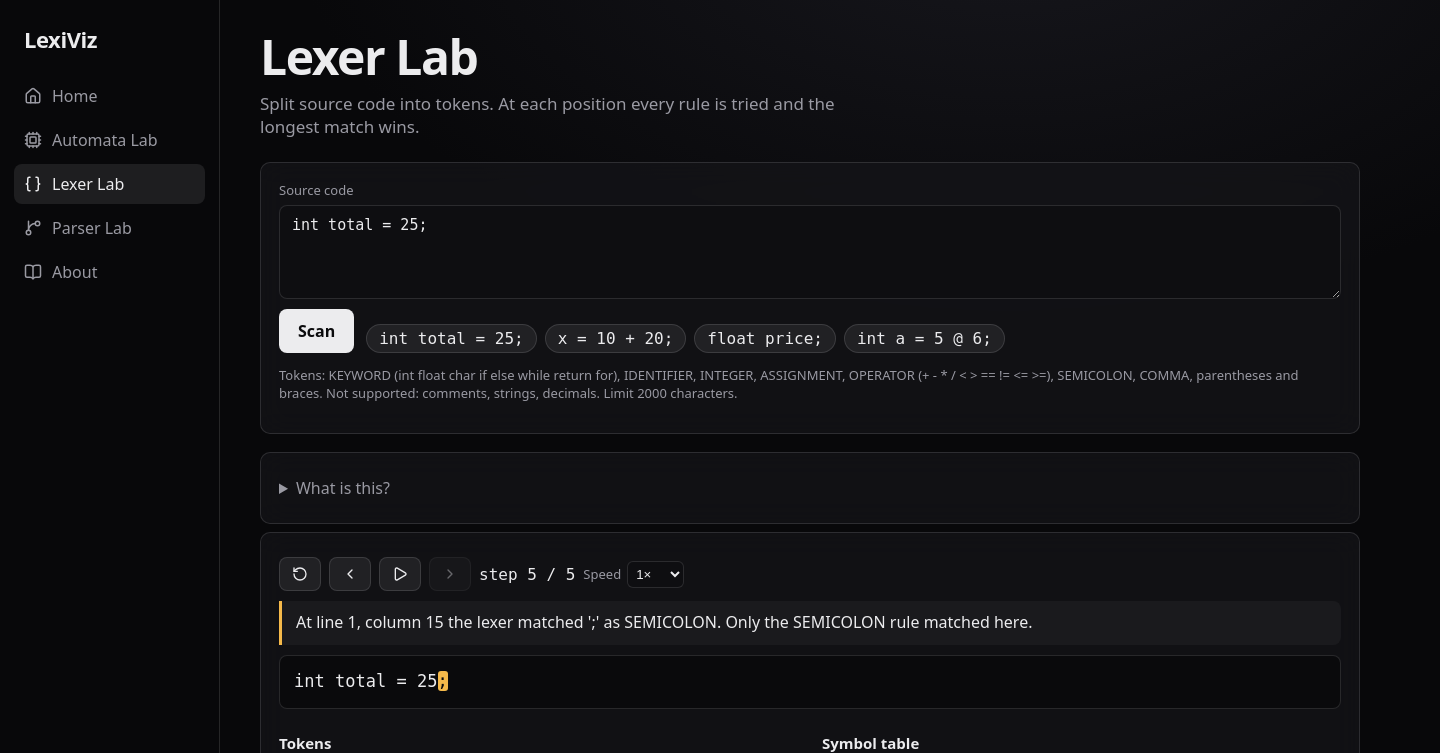
it: Lexer Lab › explains tie-breaking for the first lexeme
The width and height of the screenshot is (1440, 753).
Click the button named "Reset" at coordinates (300, 574), box [279, 557, 321, 591]
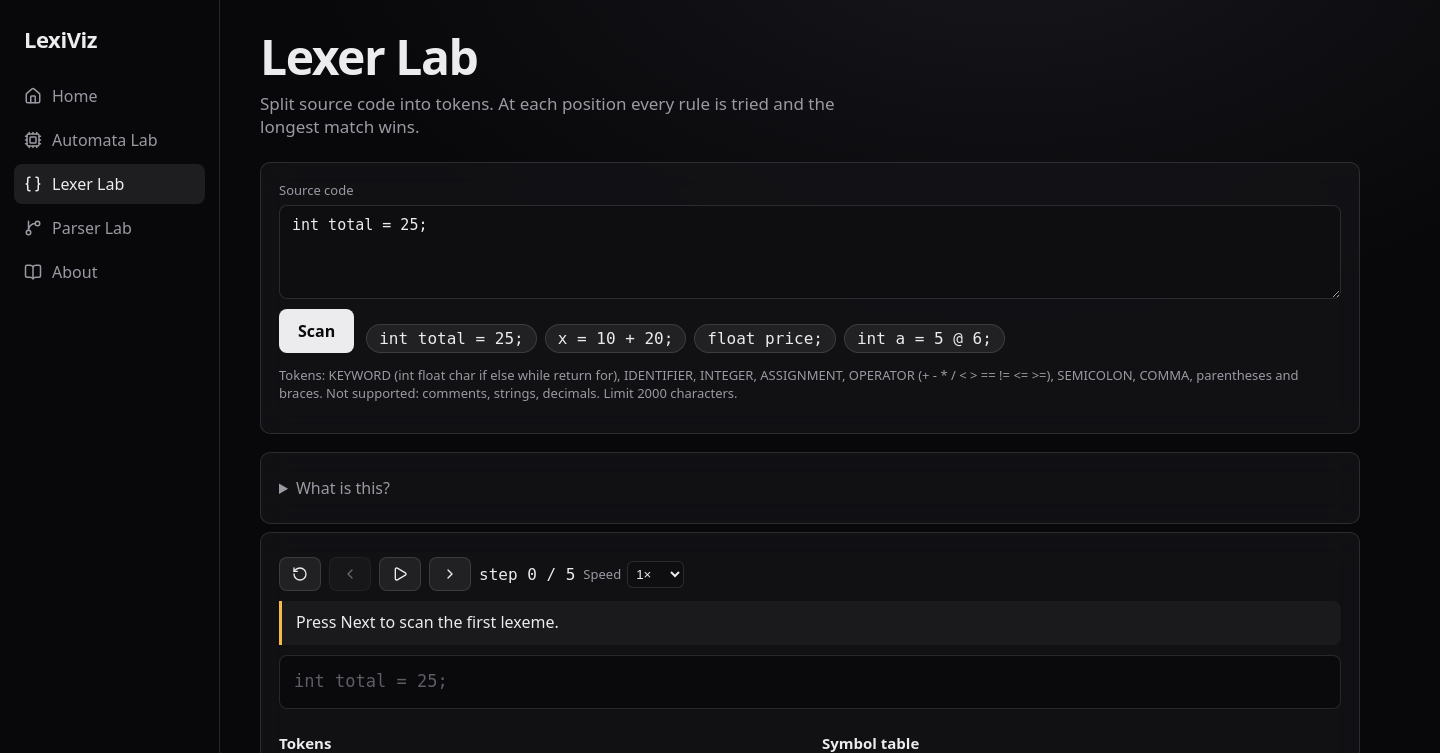
Click the button named "Next step" at coordinates (450, 574), box [429, 557, 471, 591]
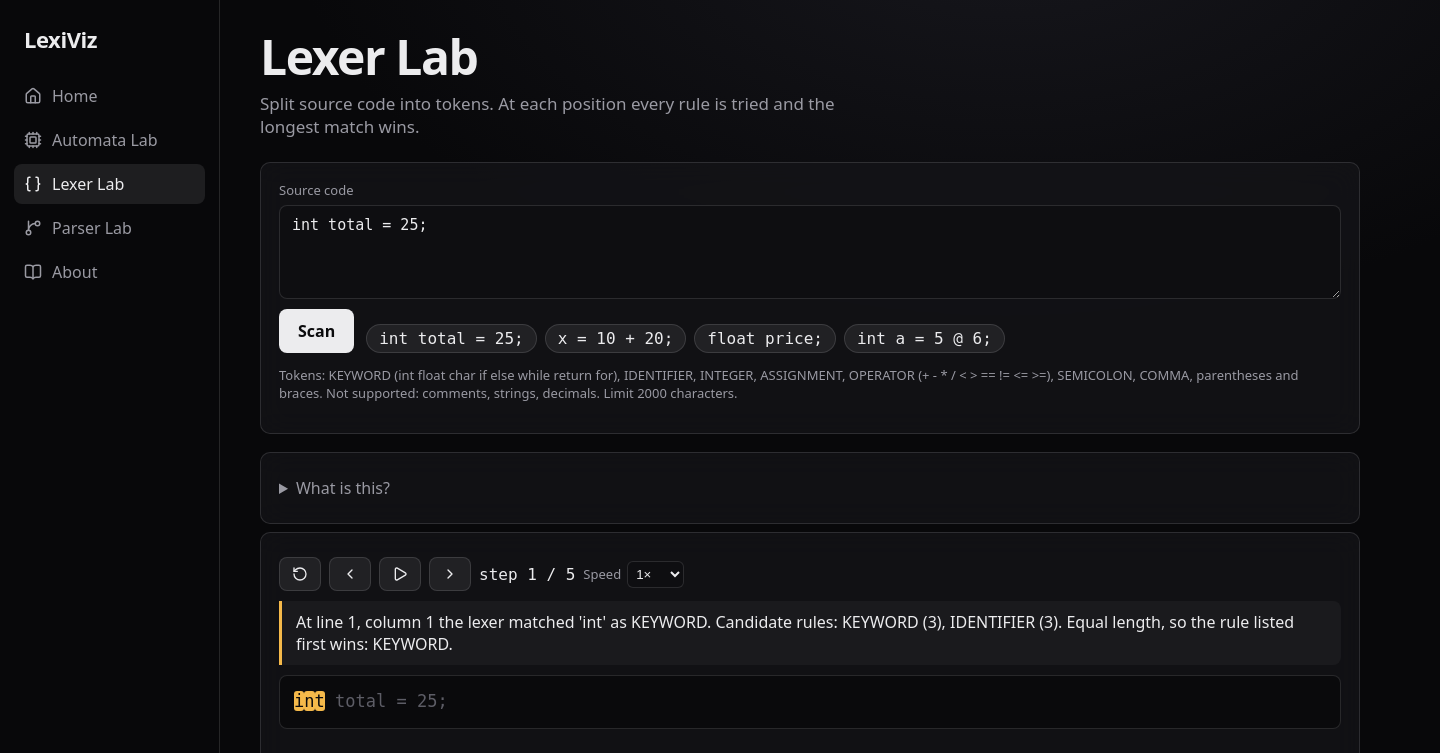
Expected: the text "Equal length, so the rule listed first wins: KEYWORD" is shown, [296, 611, 1294, 655]
